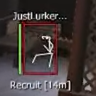hacks_3: (10, 10, 70, 90)
